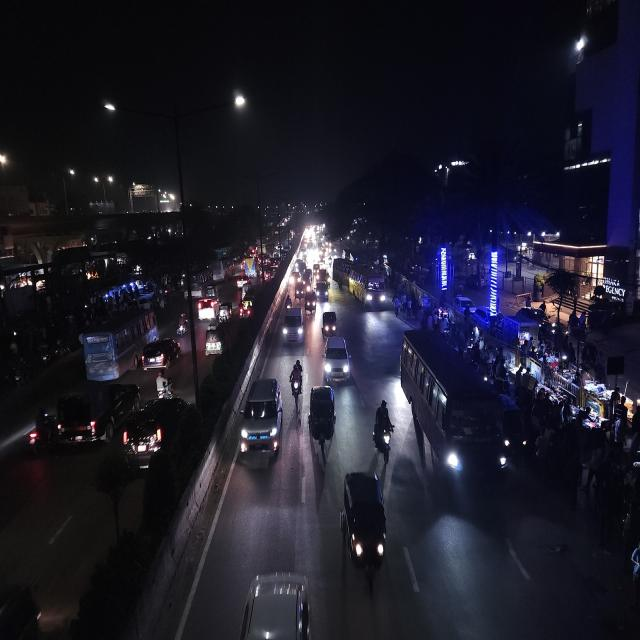bus: (398, 327, 510, 502), (80, 305, 160, 381), (570, 0, 624, 64), (348, 261, 388, 313), (184, 266, 210, 300), (332, 259, 350, 294), (210, 258, 230, 282)
car: (53, 378, 140, 447), (124, 392, 192, 476), (238, 374, 284, 464), (321, 332, 351, 385), (140, 336, 182, 373), (281, 304, 305, 349), (196, 294, 218, 320), (313, 279, 331, 303), (239, 296, 255, 322), (234, 274, 246, 293)
cng: (339, 465, 389, 591), (306, 383, 338, 461), (204, 318, 230, 361), (320, 307, 338, 338), (304, 290, 316, 316), (294, 278, 305, 301)
motorcycle: (25, 405, 61, 456), (373, 396, 395, 464), (288, 356, 304, 401), (154, 370, 176, 399), (177, 310, 190, 337)
truck: (246, 258, 258, 278)
